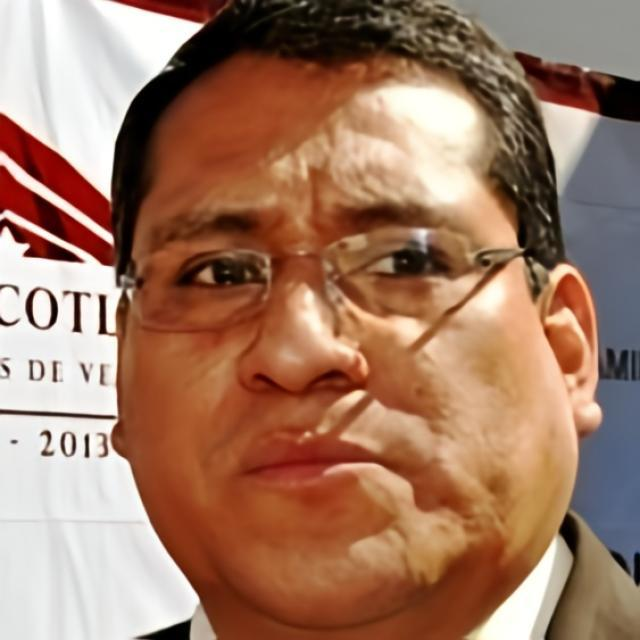anger: (116, 64, 582, 629)
